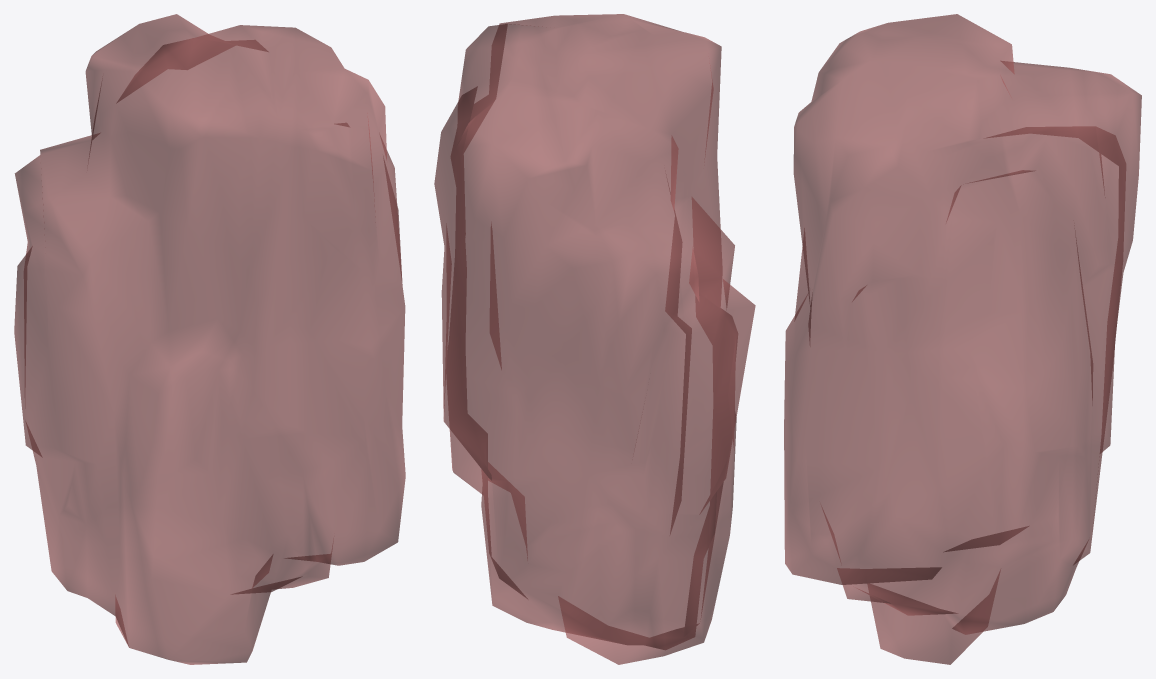
The model's file is SM_Cliff_Vertical_01_Complex_Collision.fbx.
The picture shows the model from 3 angles, left to right: view 1: azimuth 30°, elevation 25°; view 2: azimuth 150°, elevation 25°; view 3: azimuth 270°, elevation 25°; orthographic projection. The views are drawn at different scales.
Parts seen in each view (by area): view 1: SM_Cliff_Vertical_01_Complex_Collision; view 2: SM_Cliff_Vertical_01_Complex_Collision; view 3: SM_Cliff_Vertical_01_Complex_Collision.
Boxes of the visible parts, left/top/right/bottom form: SM_Cliff_Vertical_01_Complex_Collision: left=14, top=14, right=405, bottom=664; SM_Cliff_Vertical_01_Complex_Collision: left=434, top=14, right=755, bottom=664; SM_Cliff_Vertical_01_Complex_Collision: left=784, top=14, right=1141, bottom=664.
Bounding box in the file's own units: 924 × 1728 × 922.
